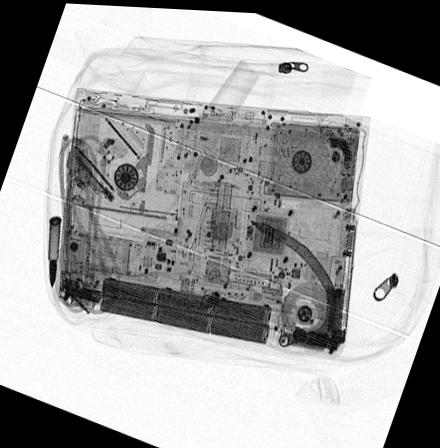Bullet: (47, 214, 61, 288)
